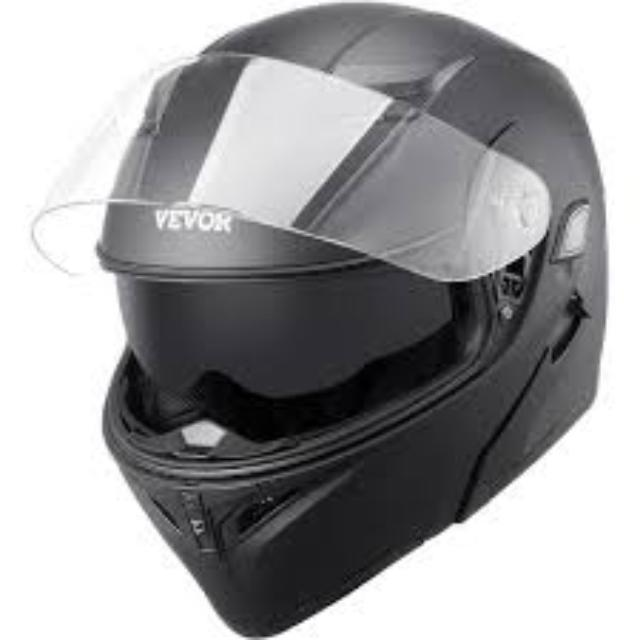motorcycle-helmets: (82, 9, 606, 634)
